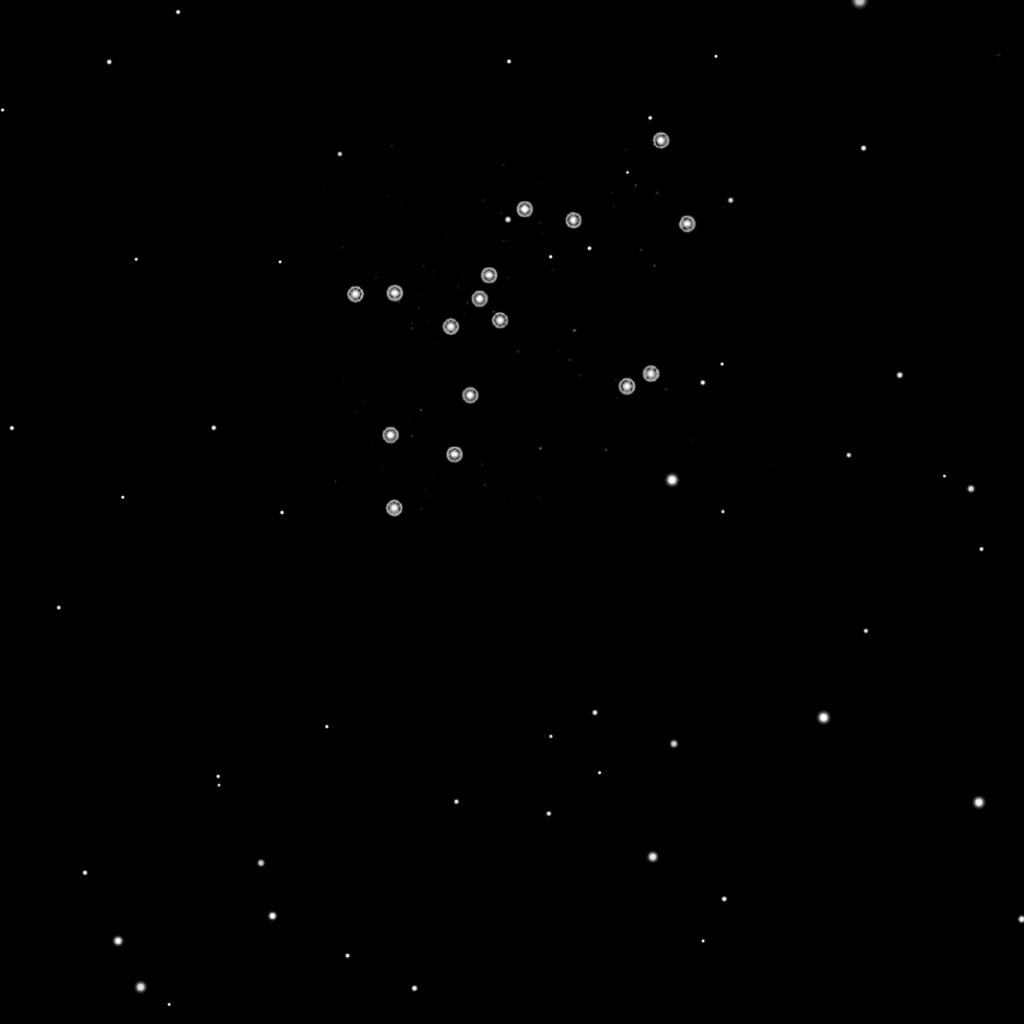canis_major: (436, 198, 589, 342)
